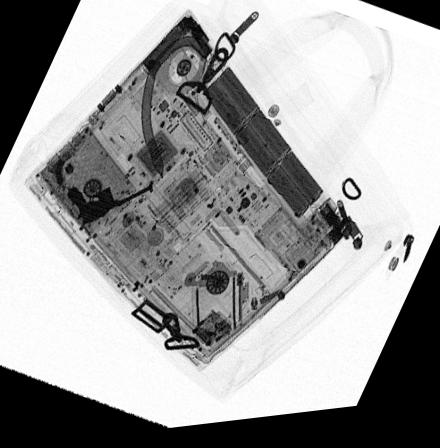Gun: (66, 184, 150, 228)
